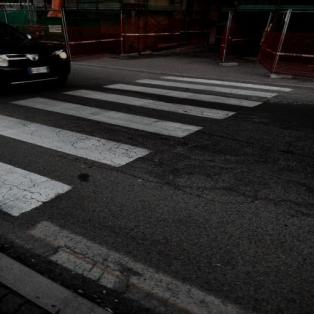Paso de Cebra: (0, 86, 244, 140)
